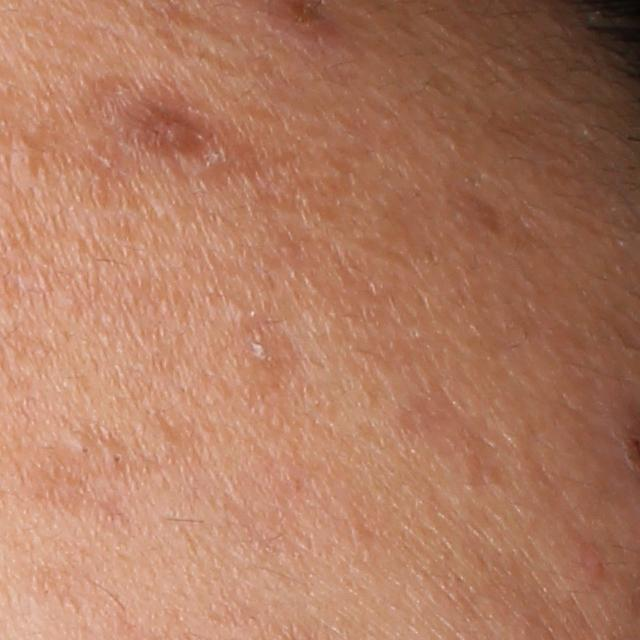comedo: (66, 435, 98, 462), (103, 447, 134, 468)
